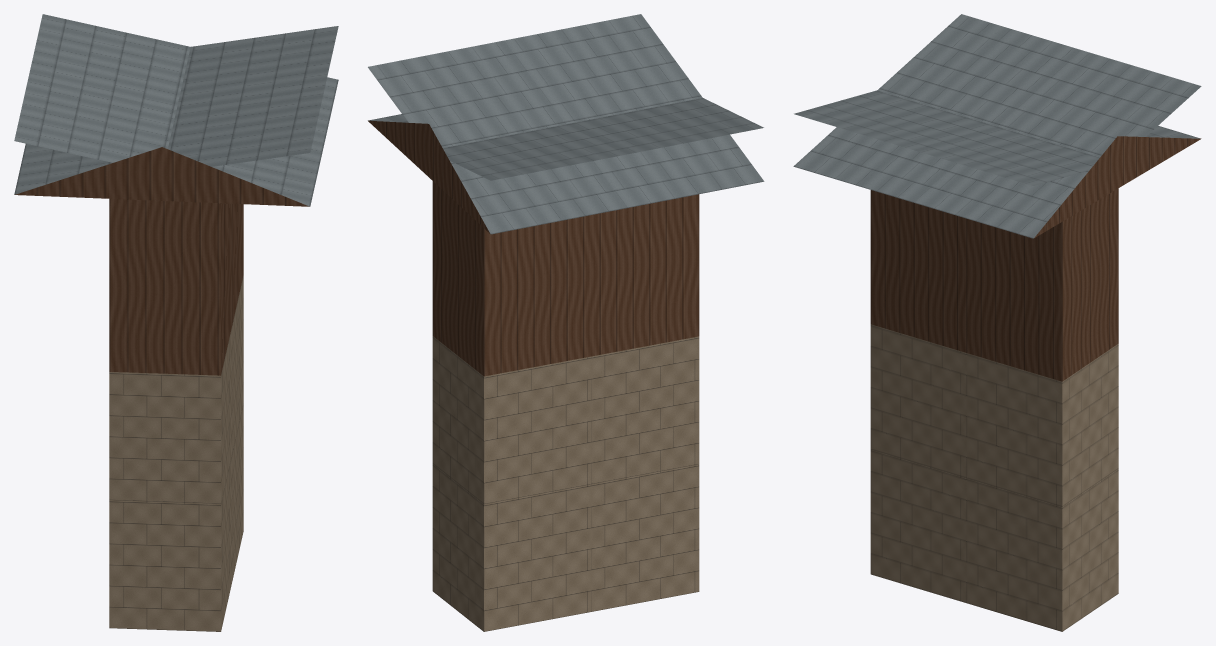
File: bld_c39_33_293.gltf
3 views of the same model, side by side, from view 1: azimuth 30°, elevation 25°; view 2: azimuth 150°, elevation 25°; view 3: azimuth 270°, elevation 25° (orthographic). The views are drawn at different scales.
Visible parts, largest first — view 1: bld_c39_33_293; view 2: bld_c39_33_293; view 3: bld_c39_33_293.
Part boxes in pixels (x1,y1,x2,y2): bld_c39_33_293: (14, 14, 338, 631); bld_c39_33_293: (368, 14, 764, 631); bld_c39_33_293: (793, 14, 1201, 631).
Bounding box in the file's own units: 7.02 × 9.2 × 7.04.
Materials: 4 (4 with a texture image).
